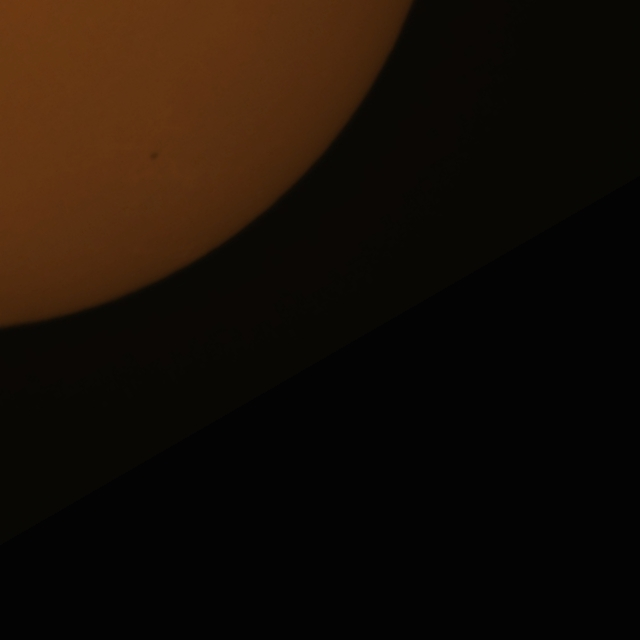sunspot: (148, 150, 160, 162)
